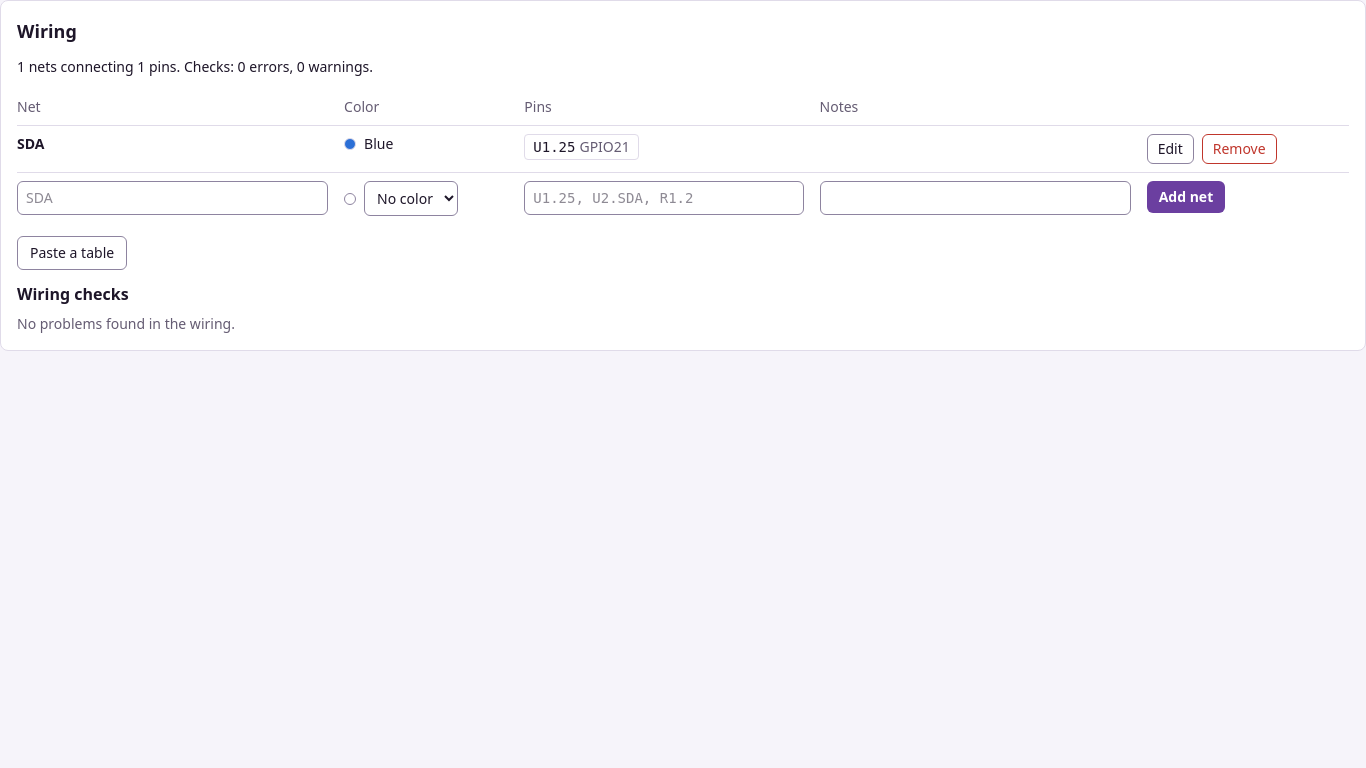
Test: the netlist editor › adds a net from the keyboard and clears for the next one
The image size is (1366, 768).
In the field named "Net name": (173, 198) [17, 181, 328, 215], type "SCL"
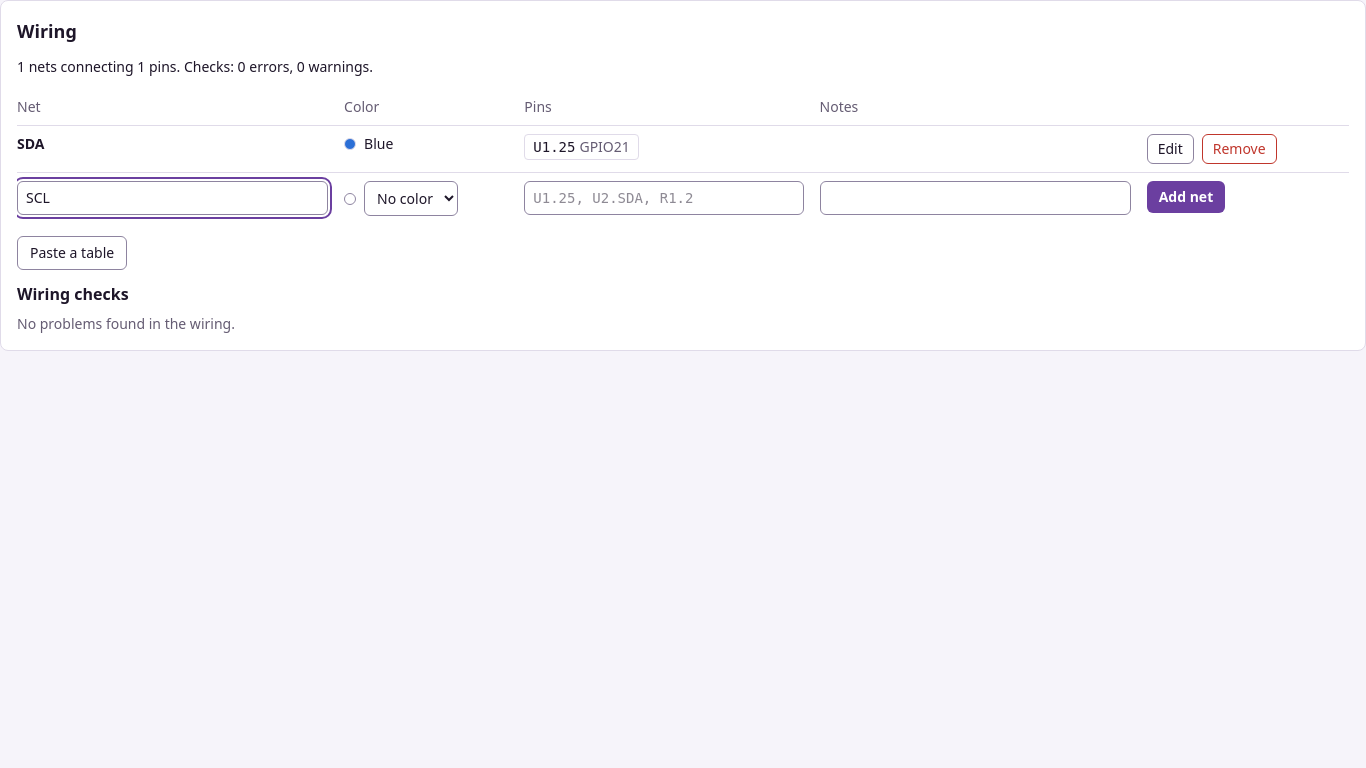
Select "Yellow" in the dropdown named "Wire color": (411, 198) [364, 181, 458, 216]
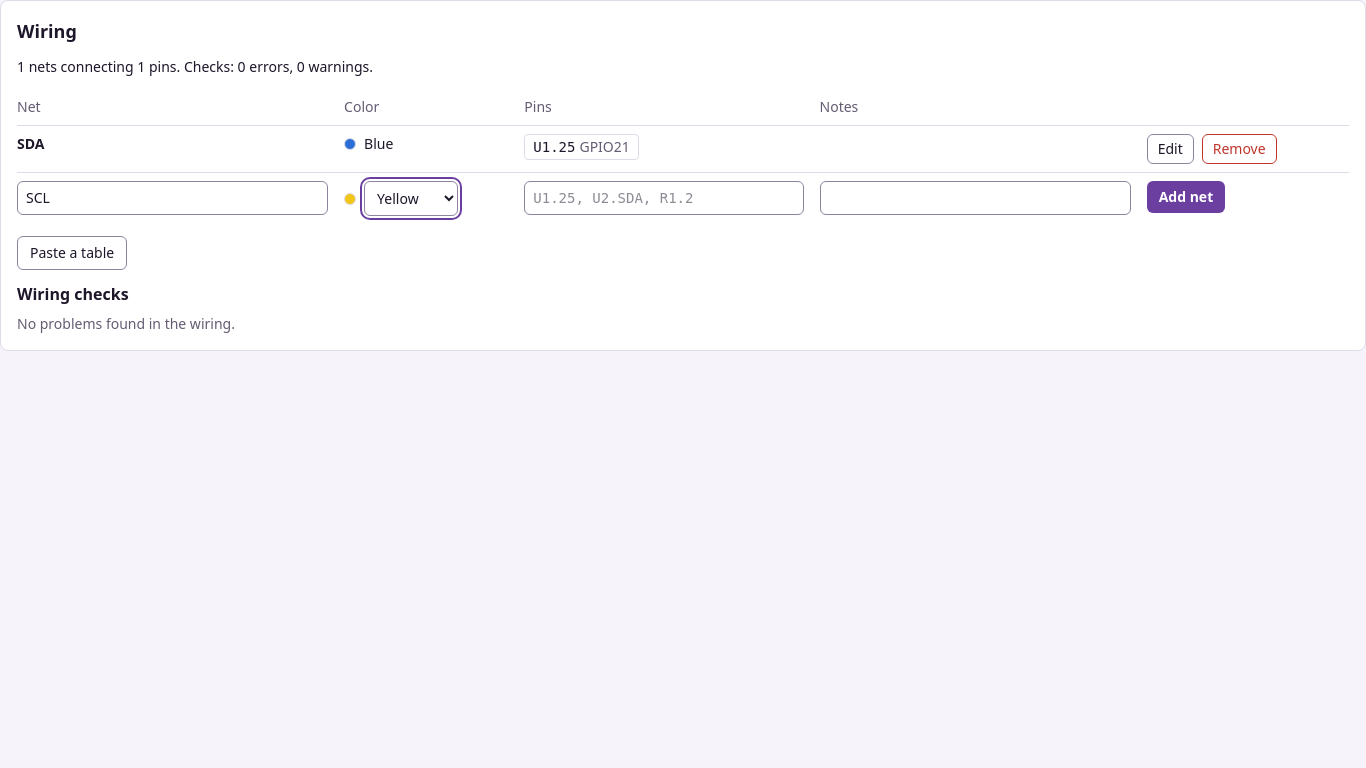
In the dropdown named "Pins": (664, 198) [524, 181, 804, 215], type "U1.22, R2.2"
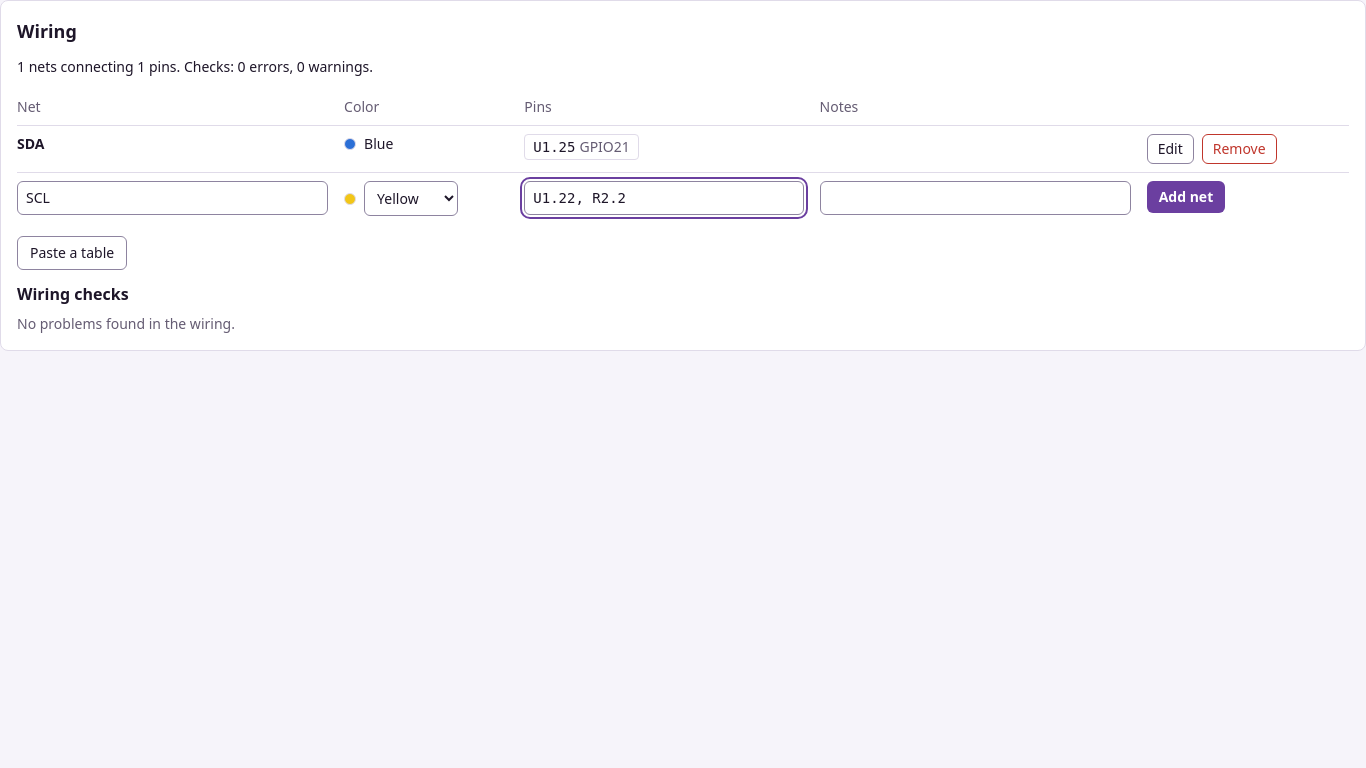
In the 2nd field named "Notes": (975, 198) [820, 181, 1131, 215], type "pull-up"
Then press Enter
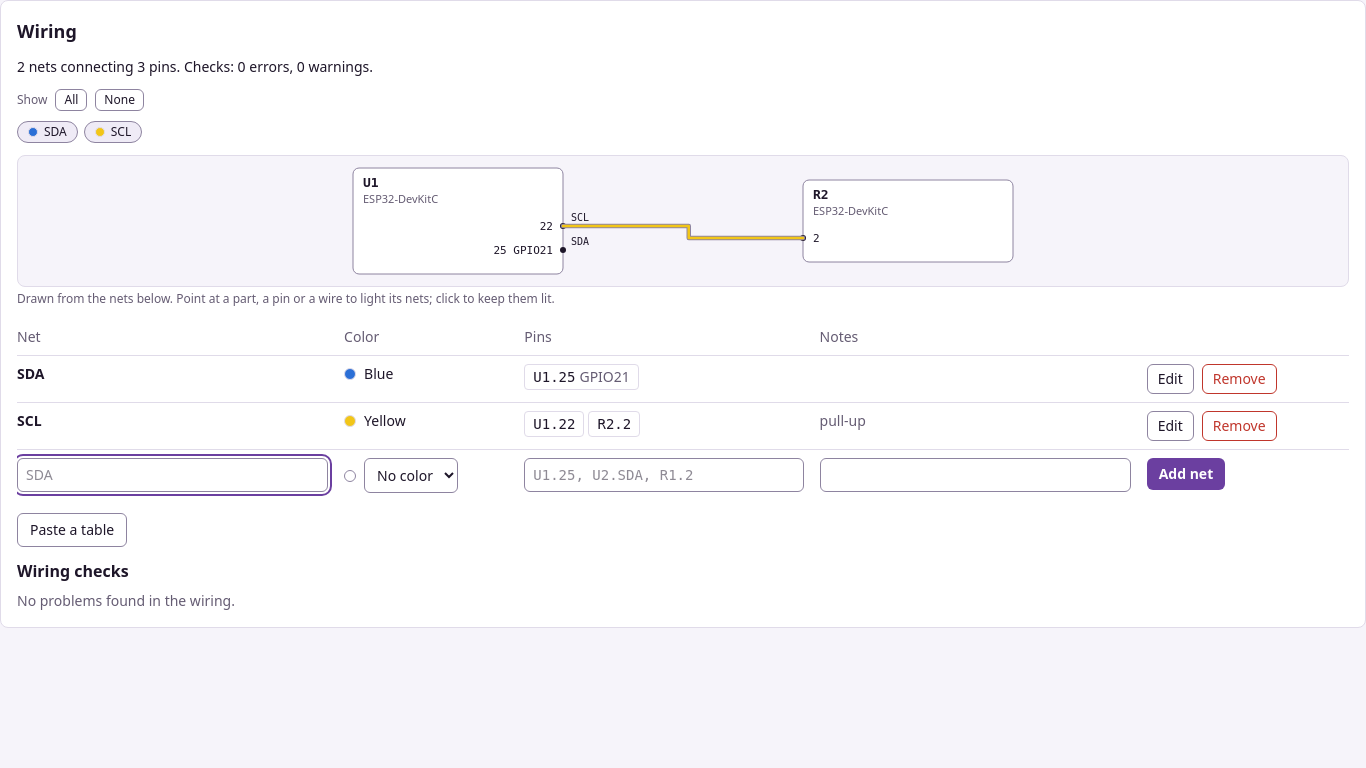
Now the row "SCL Yellow U1.22 R2.2 pull-up Edit Remove" is shown, box [17, 402, 1349, 450]
Now the field named "Net name" is empty, box [17, 458, 328, 492]
